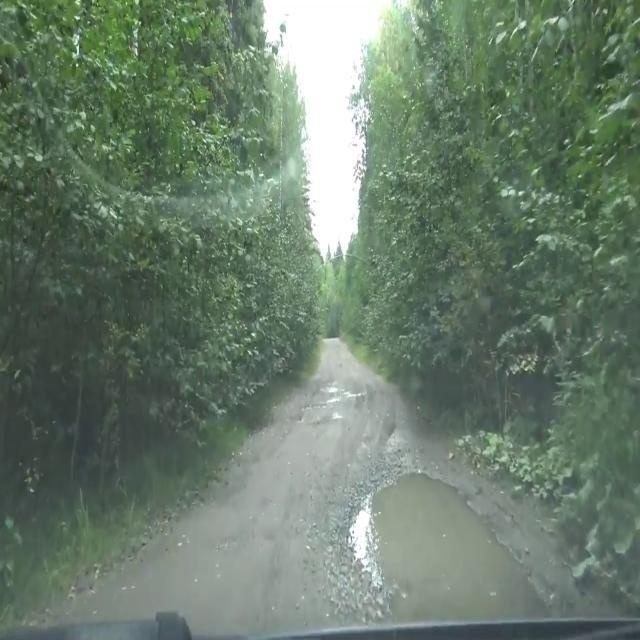pothole: (324, 422, 556, 629), (290, 377, 350, 436)
